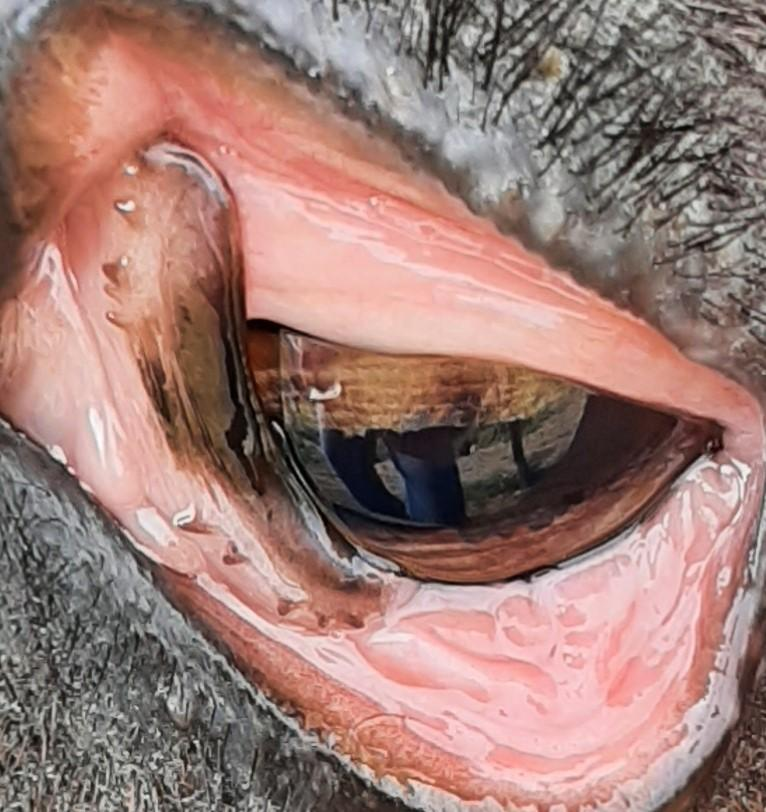eye_membrane: (2, 2, 764, 812)
